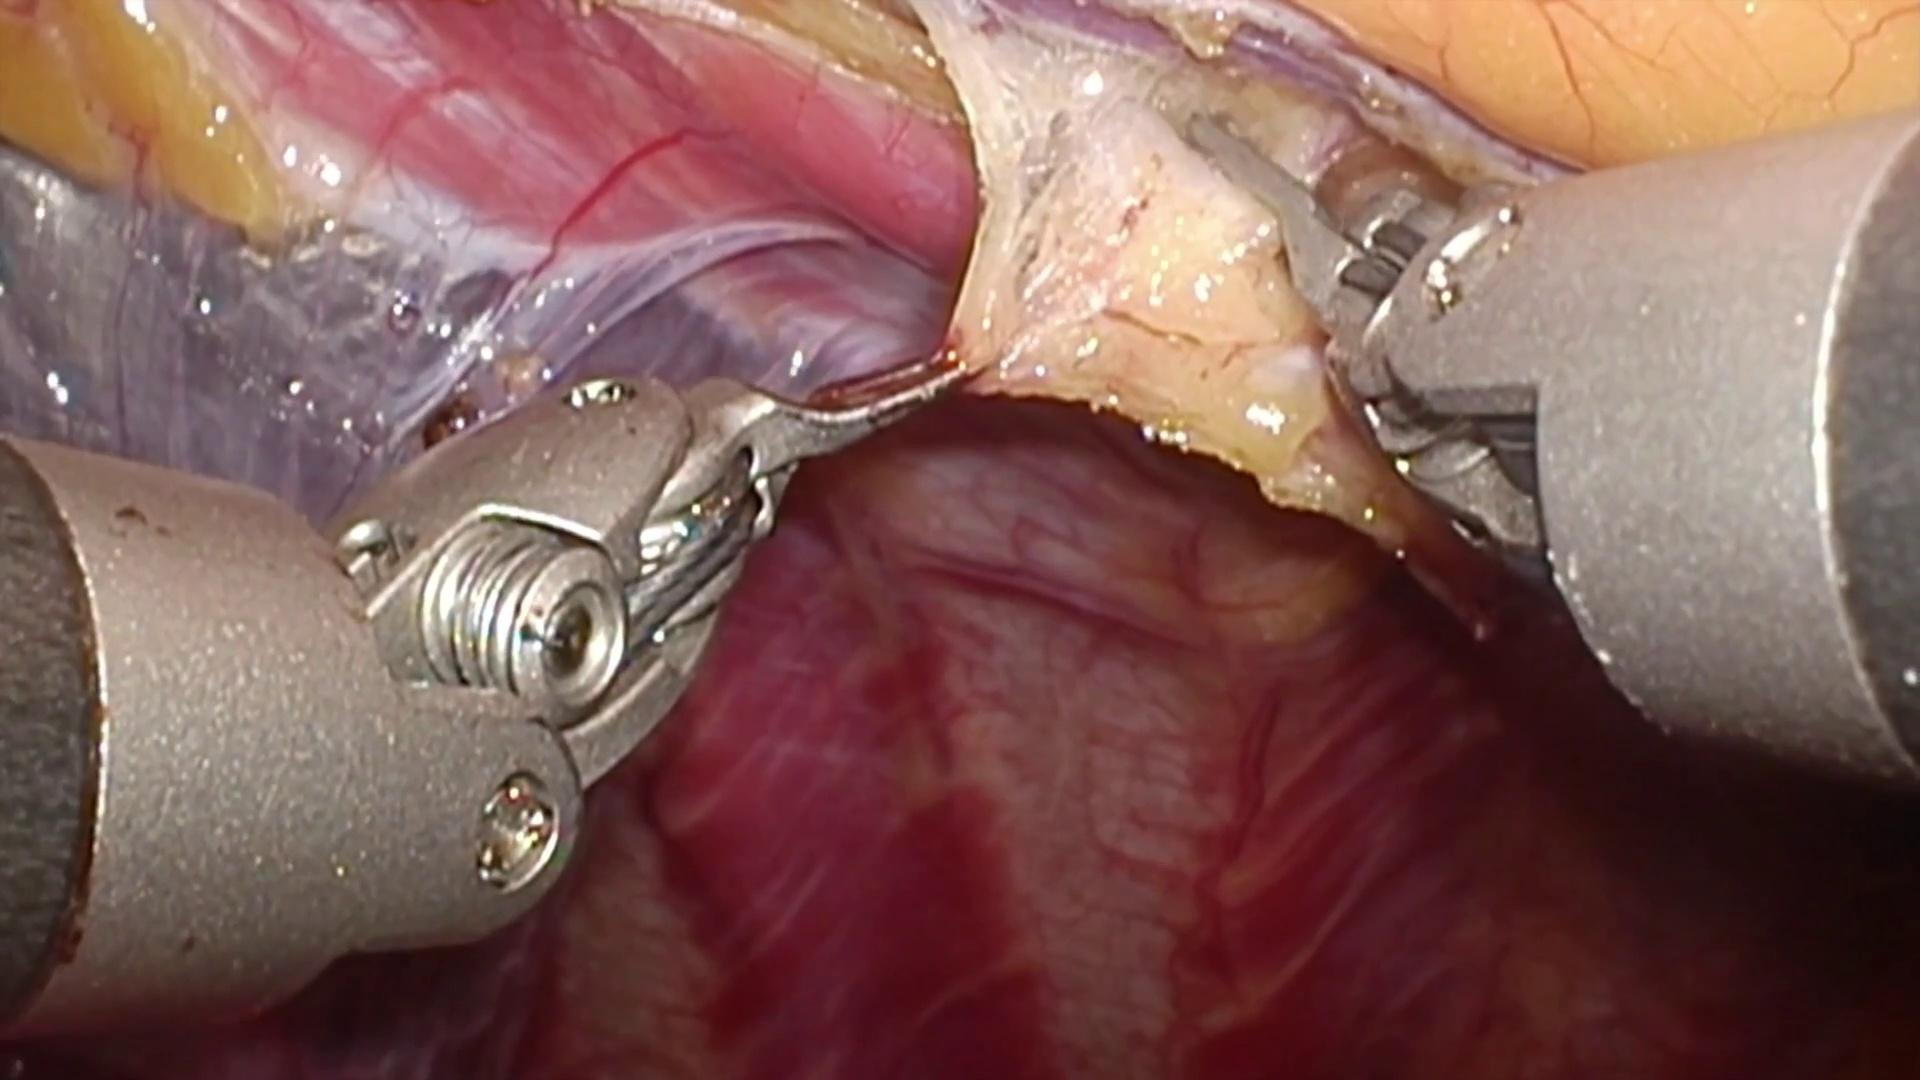Debakey: (682, 359, 984, 495)
clipper: (1185, 115, 1588, 584)
